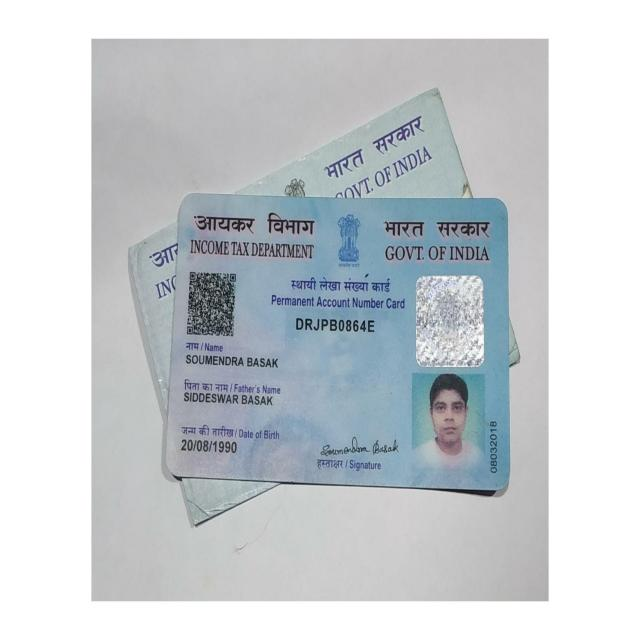pan_card: (165, 196, 508, 489)
